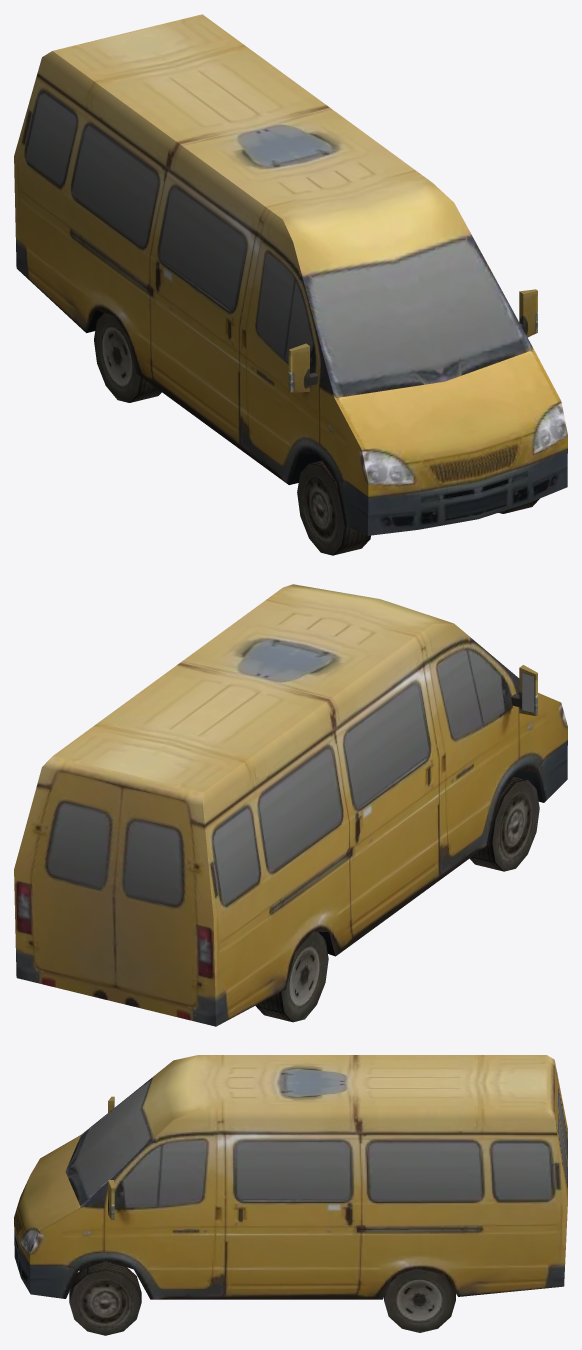
Rendered from traffic-van-orange.glb.
The picture shows the model from 3 angles, top to bottom: view 1: azimuth 30°, elevation 25°; view 2: azimuth 150°, elevation 25°; view 3: azimuth 270°, elevation 25°; orthographic projection. The views are drawn at different scales.
Visible parts, largest first — view 1: Object_754; view 2: Object_754; view 3: Object_754.
Part boxes in pixels (<box>): Object_754: <box>14,14,567,555</box>; Object_754: <box>14,584,567,1026</box>; Object_754: <box>14,1055,567,1335</box>.
Bounding box in the file's own units: 0.1877 × 0.2054 × 0.4795.
Materials: 1 (1 with a texture image).
